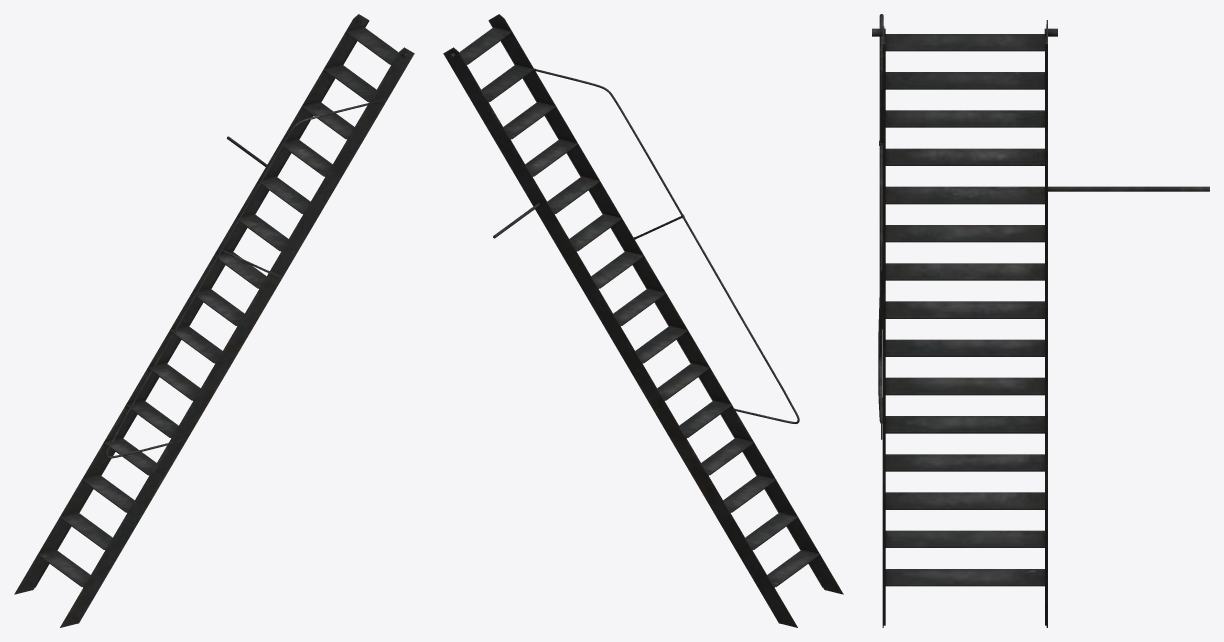
File: FireStairs.glb
The picture shows the model from 3 angles, left to right: view 1: azimuth 30°, elevation 25°; view 2: azimuth 150°, elevation 25°; view 3: azimuth 270°, elevation 25°; orthographic projection. The views are drawn at different scales.
Parts seen in each view (by area): view 1: modular_fire_escape_stairs; view 2: modular_fire_escape_stairs; view 3: modular_fire_escape_stairs.
Part boxes in pixels (x1,y1,x2,y2): modular_fire_escape_stairs: [14, 14, 414, 627]; modular_fire_escape_stairs: [443, 14, 843, 627]; modular_fire_escape_stairs: [872, 14, 1209, 627].
Size of the model in its own units: 2.99 by 4.01 by 1.37.
1 material, 1 textured.
